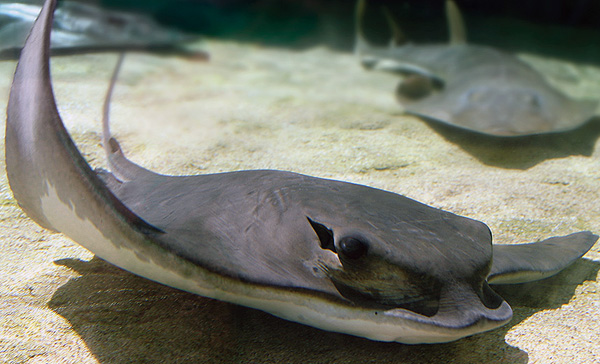Bat Ray: (2, 4, 600, 352)
